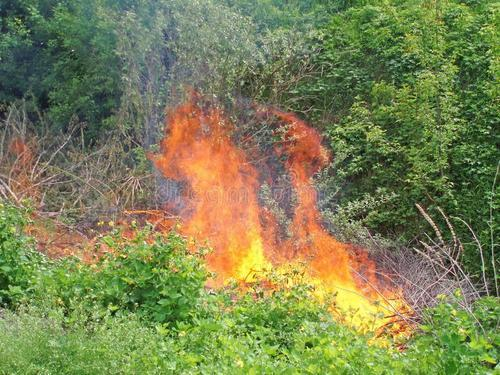fire: (168, 116, 330, 271), (330, 255, 406, 337)
